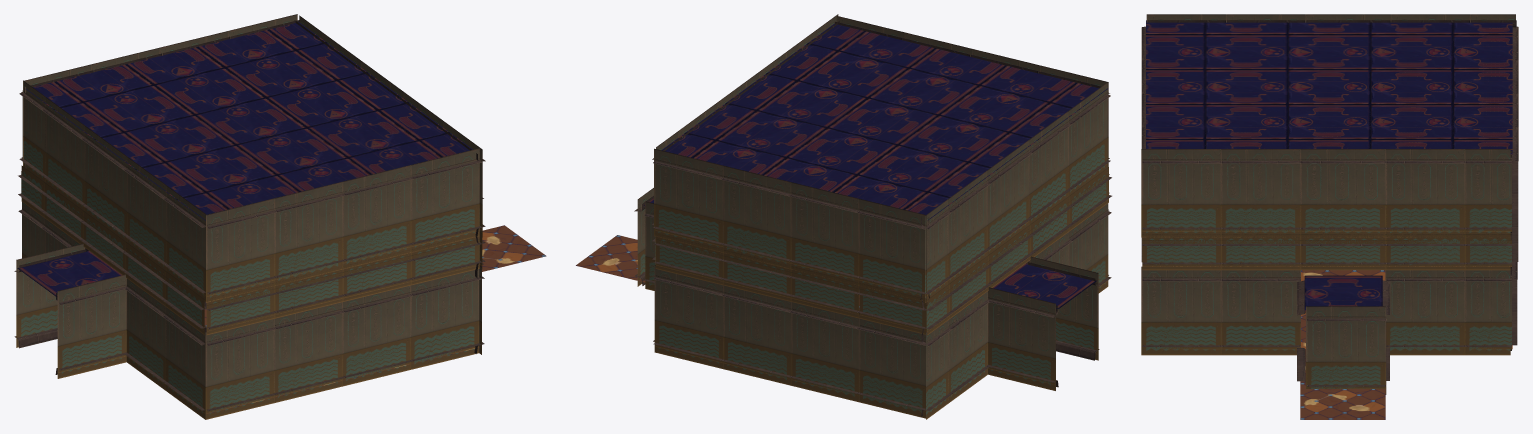
The model's file is layout-floor05.glb.
3 renders of one model, left to right at view 1: azimuth 30°, elevation 25°; view 2: azimuth 150°, elevation 25°; view 3: azimuth 270°, elevation 25°, orthographic.
Parts seen in each view (by area): view 1: Layout_Floor05; view 2: Layout_Floor05; view 3: Layout_Floor05.
Boxes of the visible parts, left/top/right/bottom form: Layout_Floor05: left=14, top=14, right=546, bottom=419; Layout_Floor05: left=576, top=14, right=1111, bottom=419; Layout_Floor05: left=1141, top=14, right=1518, bottom=419.
Size of the model in its own units: 30.95 by 12.48 by 20.63.
3 materials, 3 textured.
